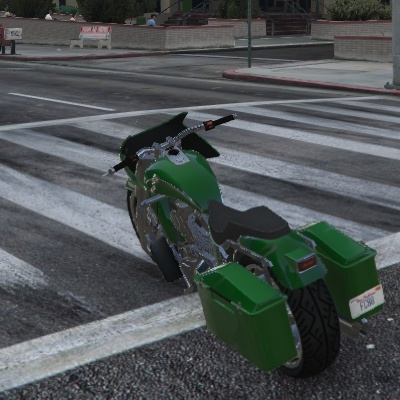off: (292, 250, 324, 278)
